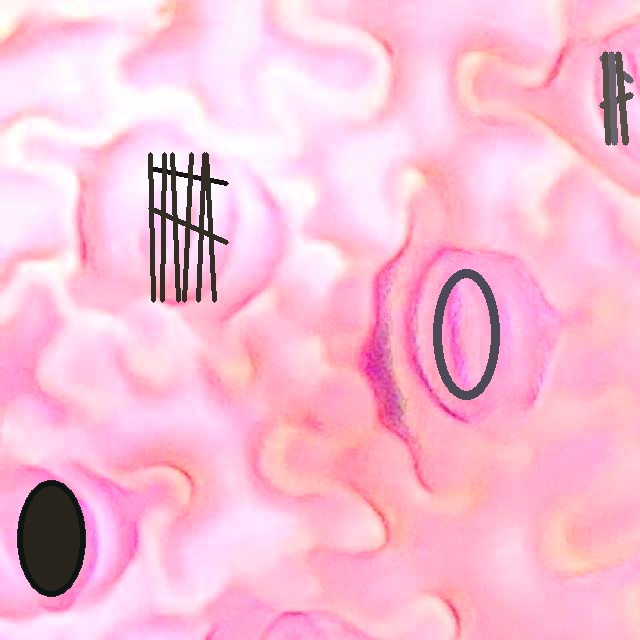close: (149, 153, 228, 301)
open: (433, 269, 500, 400), (16, 480, 86, 596), (599, 52, 633, 144)
